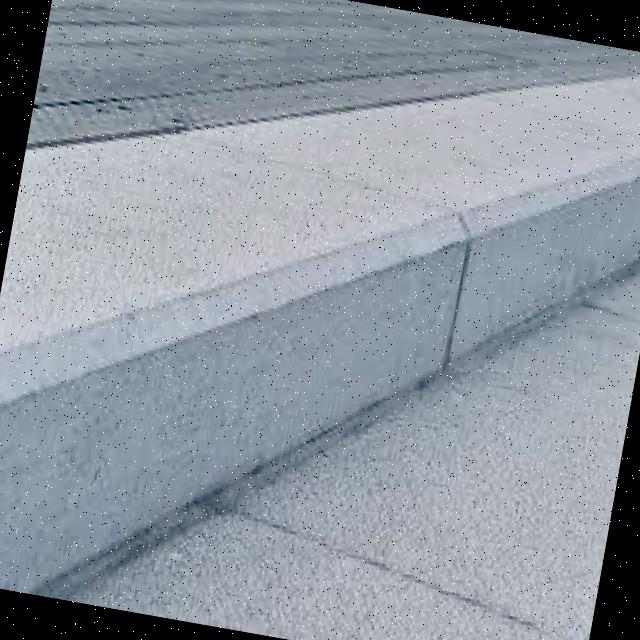curb: (1, 173, 342, 637), (278, 169, 581, 465), (481, 119, 640, 324)
